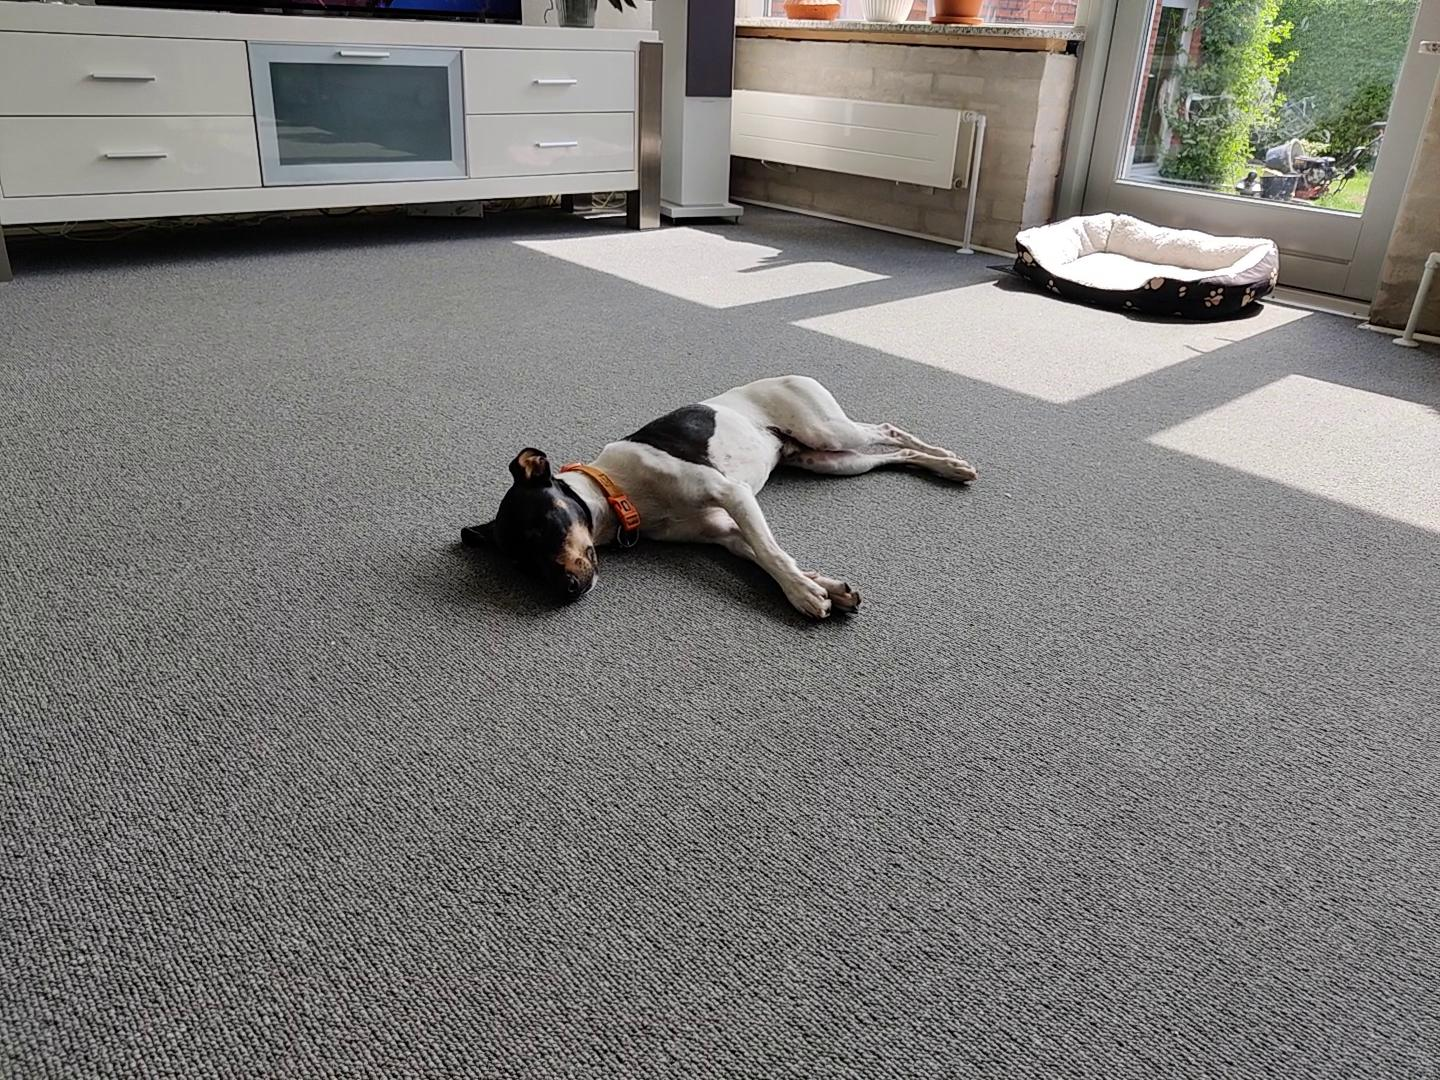Dog: (454, 371, 985, 624)
